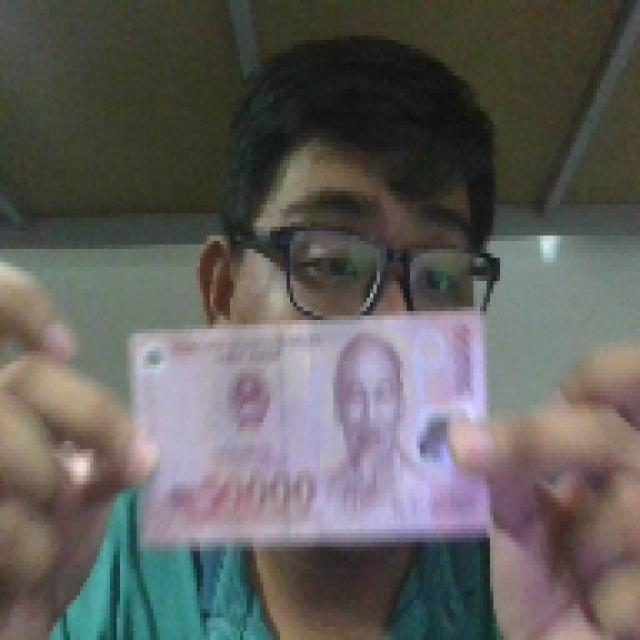50 000 VND: (127, 302, 493, 551)
